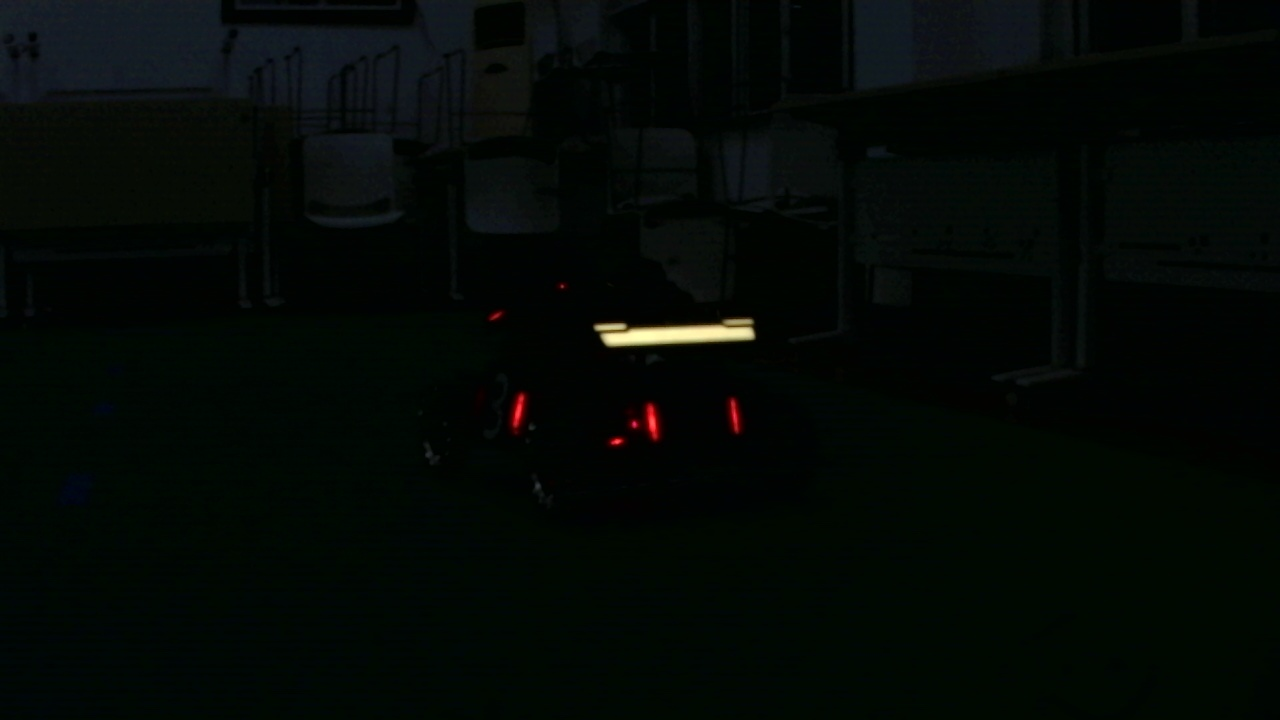lamp: (723, 392, 748, 437), (509, 387, 530, 434), (641, 397, 661, 443)
notpair1: (507, 386, 658, 447)
pair1: (641, 397, 743, 444)
